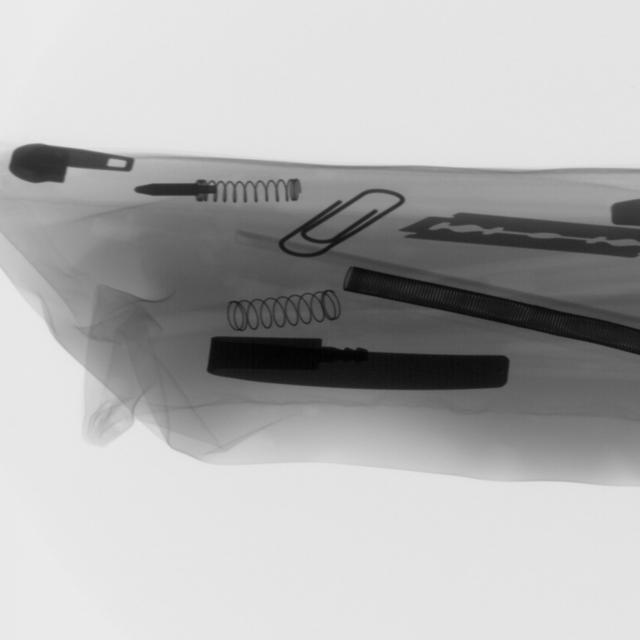pin: (284, 183, 402, 264)
razor: (404, 202, 640, 269)
